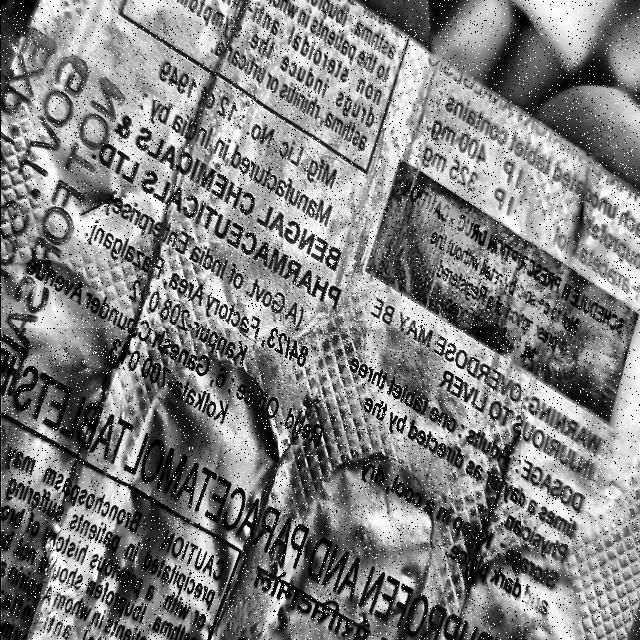IBUPROFEN AND PARACETAMOL TABLETS: (2, 329, 519, 640)
